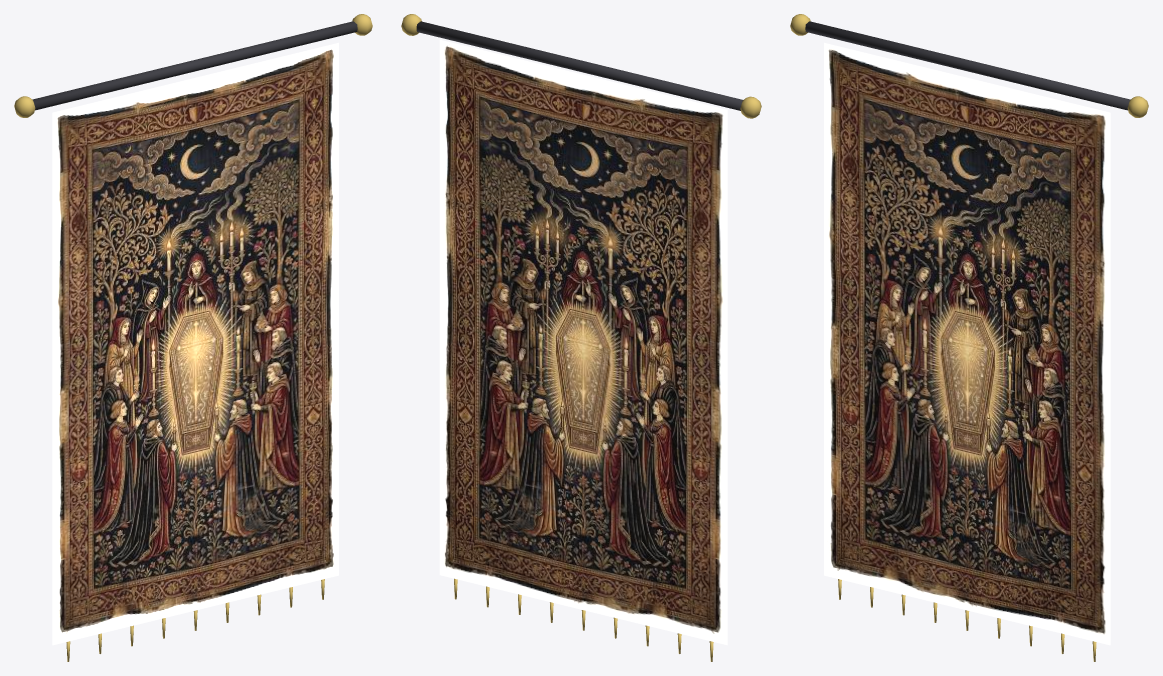
Rendered from art_tapestry_ritual.glb.
3 views of the same model, side by side, from view 1: azimuth 30°, elevation 25°; view 2: azimuth 150°, elevation 25°; view 3: azimuth 330°, elevation 25° (orthographic).
Visible parts, largest first — view 1: GD_art_tapestry_ritual__m0, GD_art_tapestry_ritual__m1, GD_art_tapestry_ritual__m2; view 2: GD_art_tapestry_ritual__m0, GD_art_tapestry_ritual__m1, GD_art_tapestry_ritual__m2; view 3: GD_art_tapestry_ritual__m0, GD_art_tapestry_ritual__m1, GD_art_tapestry_ritual__m2.
Boxes of the visible parts, x1,y1,x2,y2 form: GD_art_tapestry_ritual__m0: (52, 42, 338, 645); GD_art_tapestry_ritual__m1: (32, 21, 357, 110); GD_art_tapestry_ritual__m2: (14, 14, 372, 661); GD_art_tapestry_ritual__m0: (439, 39, 727, 645); GD_art_tapestry_ritual__m1: (416, 21, 742, 110); GD_art_tapestry_ritual__m2: (401, 14, 761, 661); GD_art_tapestry_ritual__m0: (824, 42, 1110, 645); GD_art_tapestry_ritual__m1: (805, 21, 1130, 110); GD_art_tapestry_ritual__m2: (790, 14, 1148, 661).
Bounding box in the file's own units: 1.12 × 1.72 × 0.06.
3 materials, 1 textured.
